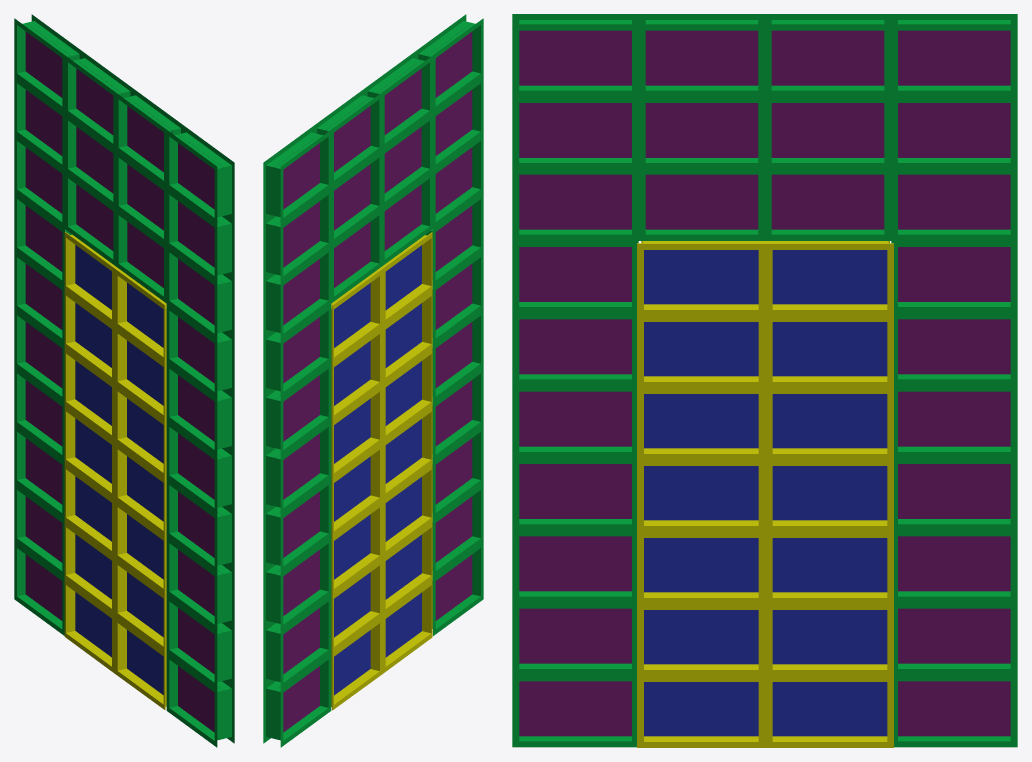
File: glass_wall_door.fbx
3 views of the same model, side by side, from view 1: azimuth 30°, elevation 25°; view 2: azimuth 150°, elevation 25°; view 3: azimuth 270°, elevation 25° (orthographic). The views are drawn at different scales.
Parts seen in each view (by area): view 1: glass_wall5, glass_door7; view 2: glass_wall5, glass_door7; view 3: glass_wall5, glass_door7.
Part boxes in pixels (bbox=[...]): glass_wall5: bbox=[14, 14, 234, 747]; glass_door7: bbox=[64, 232, 166, 709]; glass_wall5: bbox=[263, 14, 483, 747]; glass_door7: bbox=[331, 232, 432, 710]; glass_wall5: bbox=[512, 14, 1017, 747]; glass_door7: bbox=[637, 241, 893, 747].
Size of the model in its own units: 0.1998 by 5.84 by 3.7.
